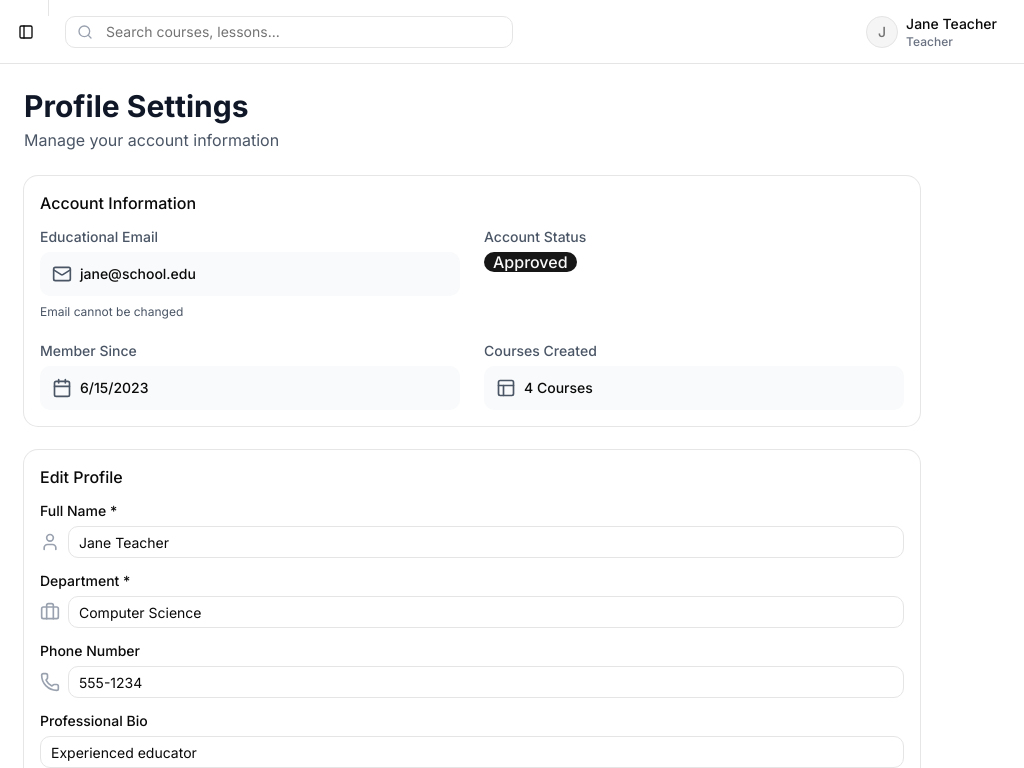
Test case: Teacher Profile Page - Form Validation (10.4) › shows error when fullName is empty
Clear the field showing "Jane Teacher" at (486, 542), box [68,526,904,558]
(page scrolled)
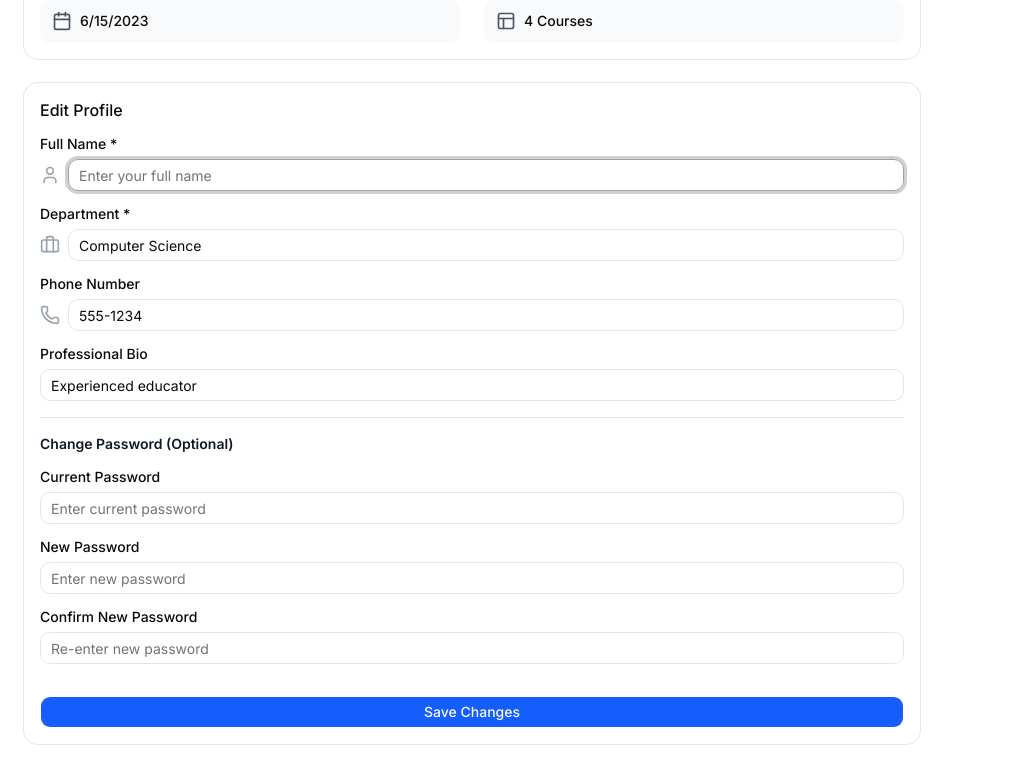
Submit the form named "save changes"
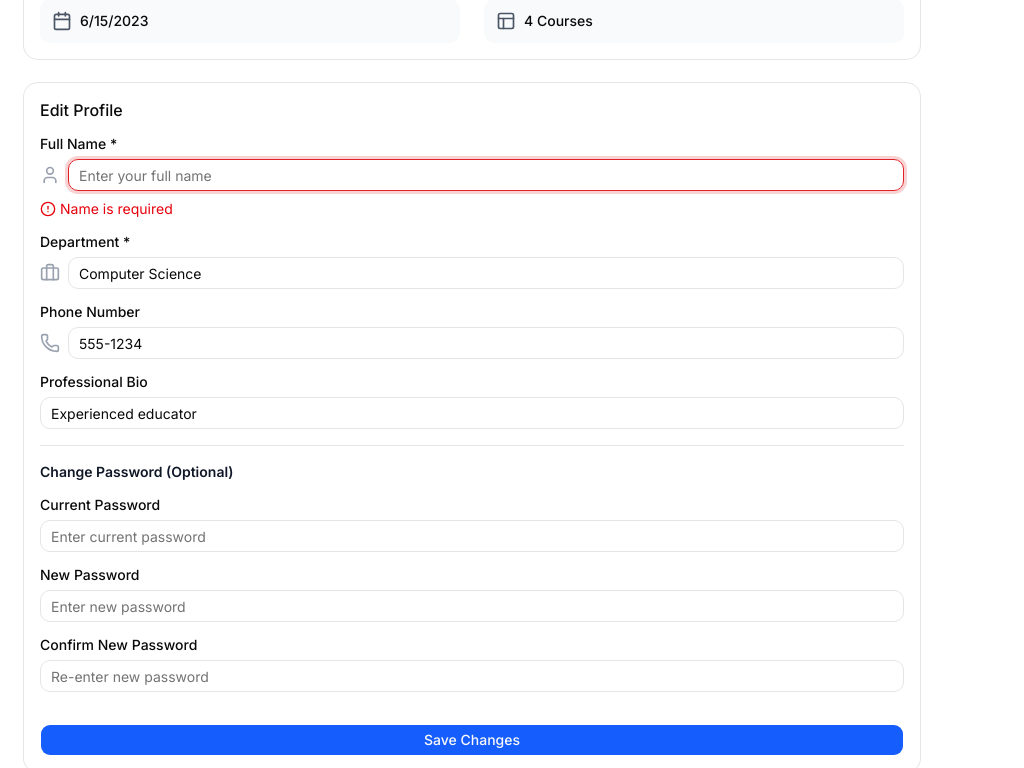
Now the text "Name is required" is shown, box [40,200,173,217]
